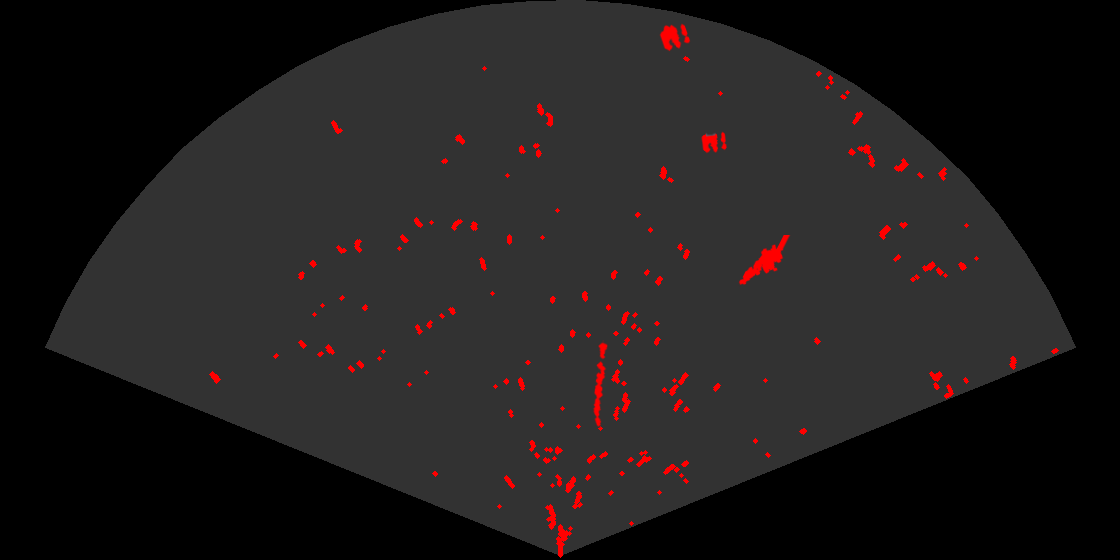ball: (658, 22, 692, 53), (700, 130, 728, 155)
chain: (591, 340, 609, 428)
frogman: (737, 235, 791, 287)
